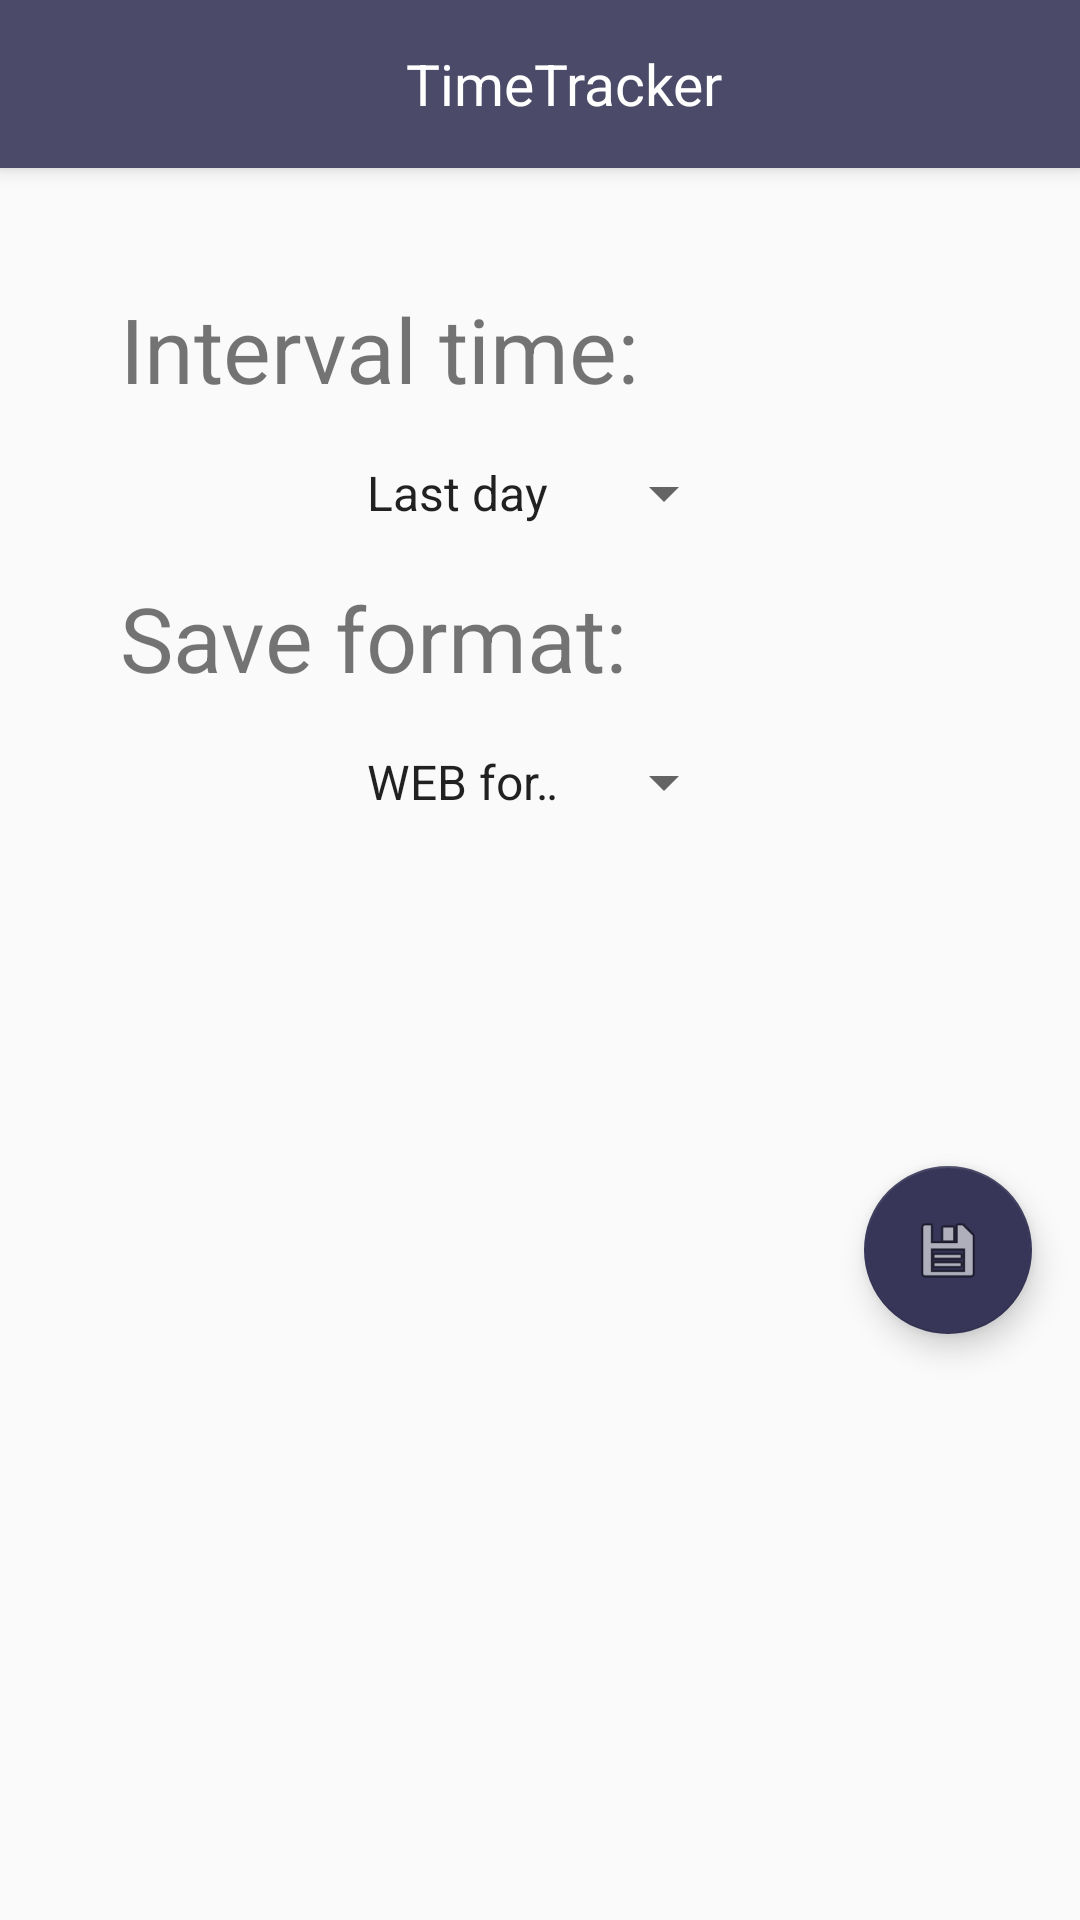

Icon bounding boxes for this 1080×1920 phone screenshot, format (x1, y1, x2, y2):
save: (864, 1166, 1032, 1334)
